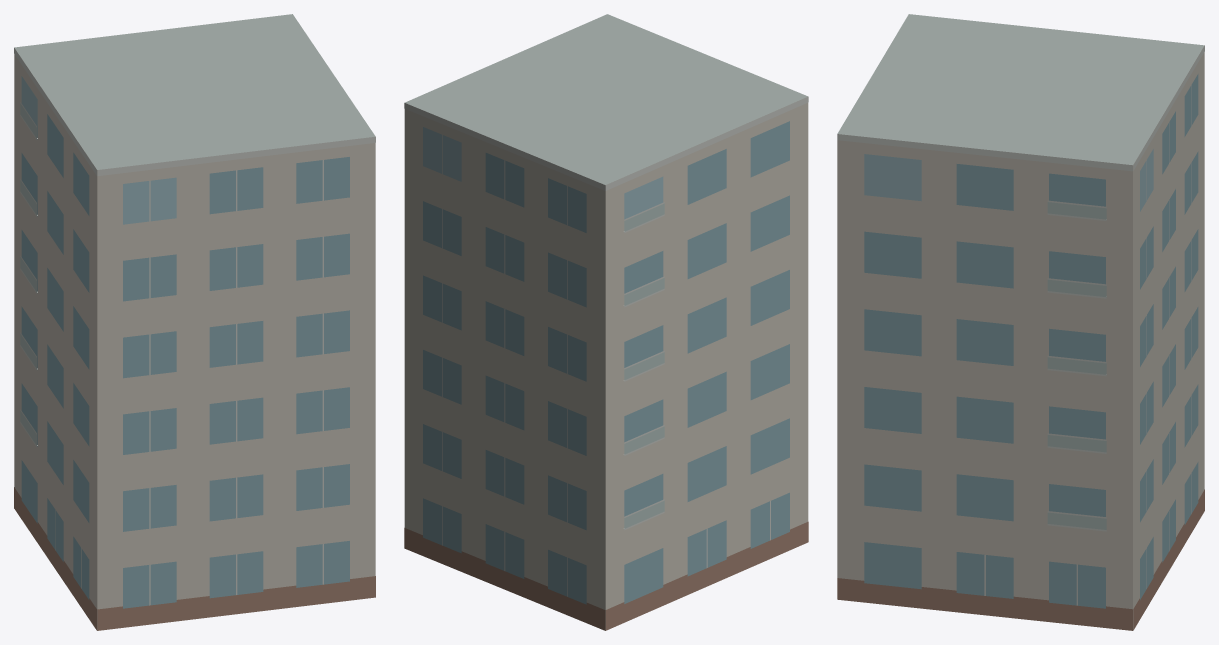
The model's file is survey-upis-32658156.glb.
3 renders of one model, left to right at view 1: azimuth 30°, elevation 25°; view 2: azimuth 150°, elevation 25°; view 3: azimuth 270°, elevation 25°, orthographic. The views are drawn at different scales.
Visible parts, largest first — view 1: survey-upis-32658156.tmp; view 2: survey-upis-32658156.tmp; view 3: survey-upis-32658156.tmp.
Boxes of the visible parts, x1=… form: survey-upis-32658156.tmp: x1=14, y1=14, x2=375, y2=630; survey-upis-32658156.tmp: x1=404, y1=14, x2=808, y2=630; survey-upis-32658156.tmp: x1=837, y1=14, x2=1204, y2=630.
Bounding box in the file's own units: 12.75 × 18.3 × 13.1.
